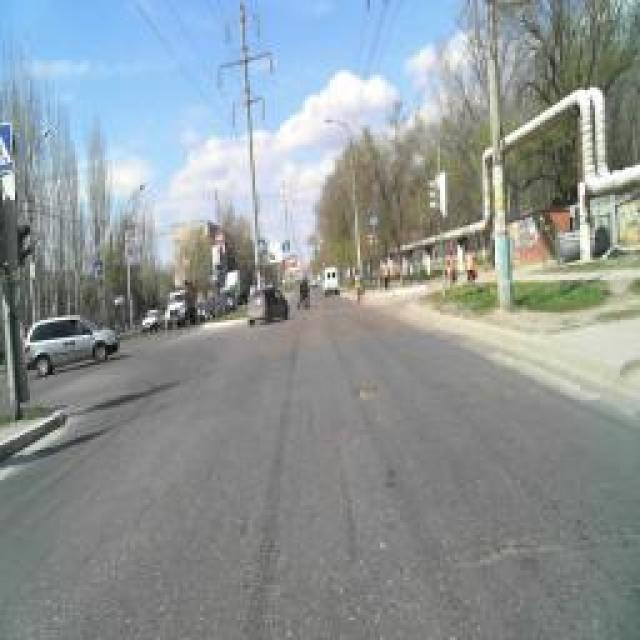sign: (215, 230, 223, 245)
